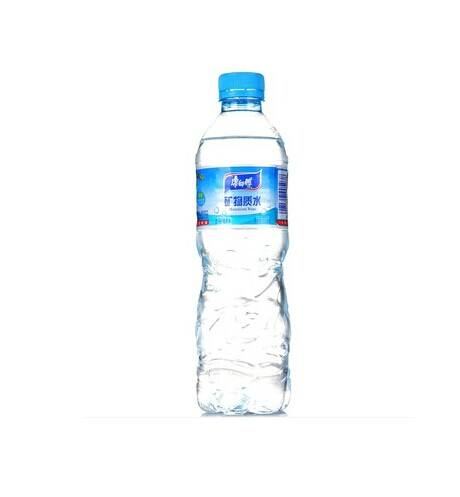amwater: (173, 51, 310, 434)
